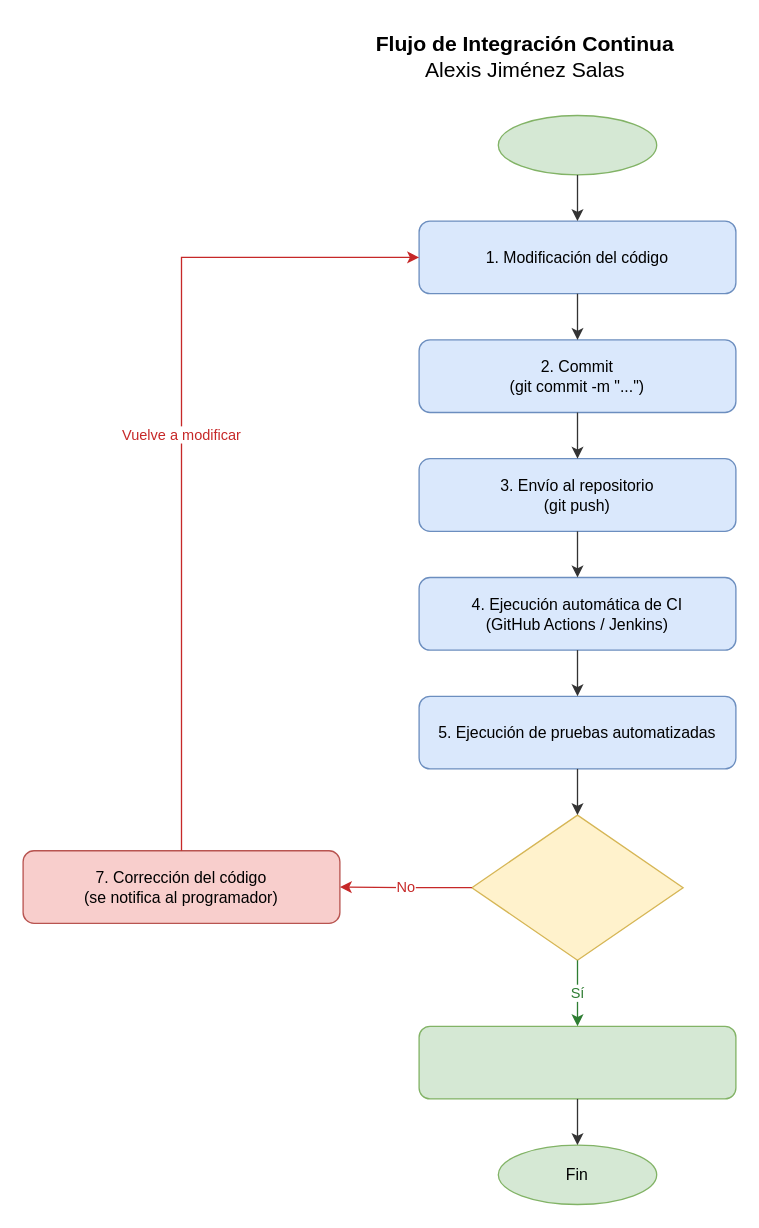
This 759x1228 diagram has some shape labels left out. Each missing label, with the box of its shape:
6. ¿Las pruebas pasan?: (471, 814, 683, 960)
8. Continuación del proceso (merge / build / despliegue): (418, 1025, 736, 1099)
Inicio: (497, 114, 657, 175)
